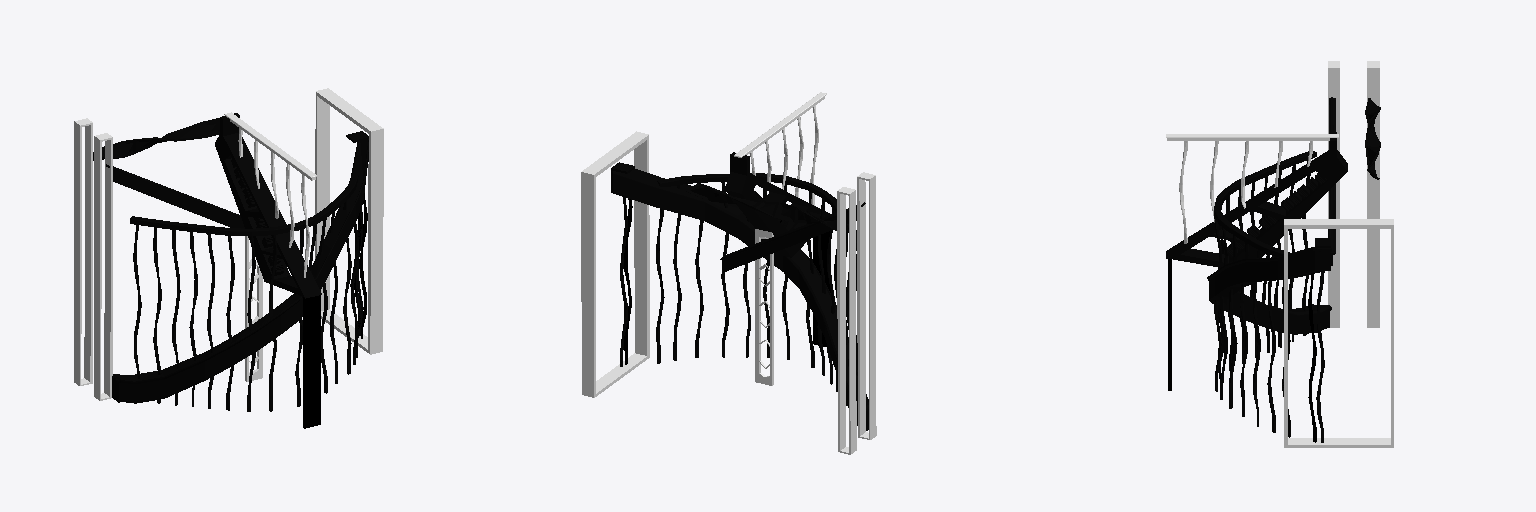
The model's file is Final-Blood.obj.
The picture shows the model from 3 angles: view 1: azimuth 30°, elevation 25°; view 2: azimuth 150°, elevation 25°; view 3: azimuth 270°, elevation 25°; orthographic projection.
Visible parts, largest first — view 1: group2 pCube13, group2 pCube3, pCube17, group2 pCube74, group2 pCube1, group2 pCube77, group2 pCube8, group2 pCube76, group2 pCube32, group2 pCube73, group2 pCube7, group2 pCube40; view 2: group2 pCube3, group2 pCube13, pCube17, group2 pCube1, group2 pCube77, group2 pCube74, group2 pCube76, group2 pCube7, group2 pCube73, group2 pCube32, group2 pCube40, group2 pCube8 (+1 smaller); view 3: group2 pCube13, pCube17, group2 pCube74, group2 pCube3, group2 pCube1, group2 pCube77, group2 pCube32, group2 pCube40, group2 pCube73, group2 pCube76, group2 pCube11, group2 pCube10 (+1 smaller).
Part boxes in pixels (left/top/right/bottom): group2 pCube13: left=112, top=131, right=368, bottom=403; group2 pCube3: left=315, top=88, right=383, bottom=354; pCube17: left=133, top=201, right=361, bottom=411; group2 pCube74: left=215, top=113, right=321, bottom=298; group2 pCube1: left=74, top=118, right=92, bottom=385; group2 pCube77: left=94, top=133, right=112, bottom=400; group2 pCube8: left=303, top=295, right=320, bottom=428; group2 pCube76: left=106, top=164, right=244, bottom=228; group2 pCube32: left=130, top=174, right=358, bottom=235; group2 pCube73: left=93, top=118, right=219, bottom=160; group2 pCube7: left=245, top=236, right=262, bottom=381; group2 pCube40: left=224, top=112, right=317, bottom=180; group2 pCube3: left=581, top=131, right=649, bottom=397; group2 pCube13: left=611, top=162, right=868, bottom=430; pCube17: left=656, top=182, right=857, bottom=405; group2 pCube1: left=837, top=187, right=856, bottom=454; group2 pCube77: left=857, top=172, right=876, bottom=439; group2 pCube74: left=725, top=152, right=831, bottom=257; group2 pCube76: left=720, top=202, right=865, bottom=272; group2 pCube7: left=755, top=229, right=773, bottom=385; group2 pCube73: left=686, top=183, right=836, bottom=230; group2 pCube32: left=657, top=173, right=856, bottom=247; group2 pCube40: left=734, top=92, right=826, bottom=157; group2 pCube8: left=813, top=231, right=830, bottom=346; group2 pCube13: left=1207, top=238, right=1331, bottom=334; pCube17: left=1214, top=160, right=1310, bottom=437; group2 pCube74: left=1166, top=132, right=1347, bottom=266; group2 pCube3: left=1284, top=219, right=1393, bottom=447; group2 pCube1: left=1367, top=61, right=1379, bottom=327; group2 pCube77: left=1328, top=61, right=1339, bottom=327; group2 pCube32: left=1214, top=151, right=1316, bottom=256; group2 pCube40: left=1166, top=134, right=1338, bottom=140; group2 pCube73: left=1365, top=98, right=1380, bottom=179; group2 pCube76: left=1328, top=97, right=1335, bottom=265; group2 pCube11: left=1316, top=271, right=1324, bottom=442; group2 pCube10: left=1308, top=273, right=1316, bottom=442.
Bounding box in the file's own units: 14.17 × 13.35 × 10.61.